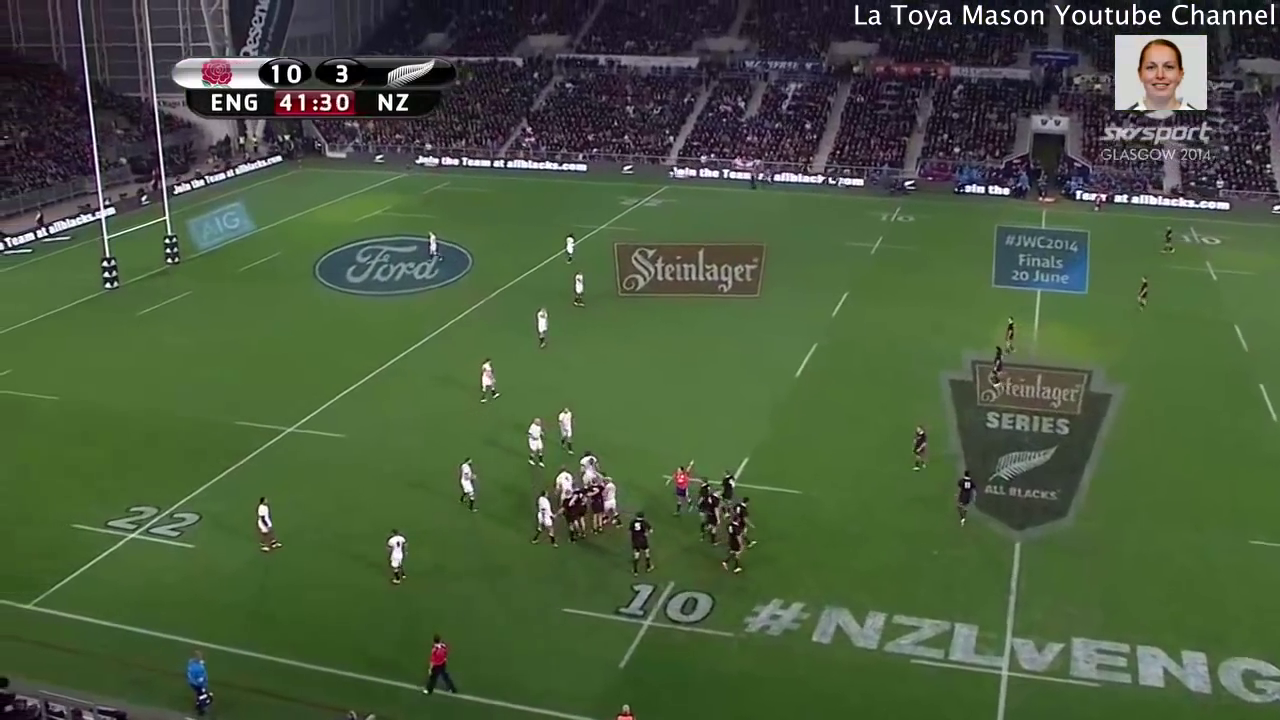10_metre: (559, 575, 737, 673), (660, 453, 807, 520), (1169, 257, 1259, 283), (843, 234, 918, 258), (860, 205, 929, 226), (1158, 225, 1230, 245)
player: (419, 632, 461, 697), (249, 492, 288, 558), (624, 510, 659, 578), (531, 489, 562, 549), (381, 528, 412, 585), (667, 457, 695, 520), (951, 468, 979, 531), (697, 486, 724, 548), (719, 515, 745, 577), (456, 457, 483, 514), (732, 494, 758, 549), (560, 488, 582, 548), (583, 478, 605, 537), (524, 416, 548, 470), (602, 475, 625, 531), (553, 404, 577, 457), (477, 357, 503, 402), (718, 467, 737, 517), (911, 424, 930, 473), (988, 343, 1006, 389), (533, 306, 551, 350), (576, 449, 600, 479), (426, 229, 445, 264), (1002, 313, 1017, 357), (552, 463, 572, 495), (1135, 274, 1151, 314), (572, 270, 587, 310), (562, 230, 577, 266), (1160, 225, 1177, 256), (695, 474, 710, 509)
post: (82, 99, 181, 294)
